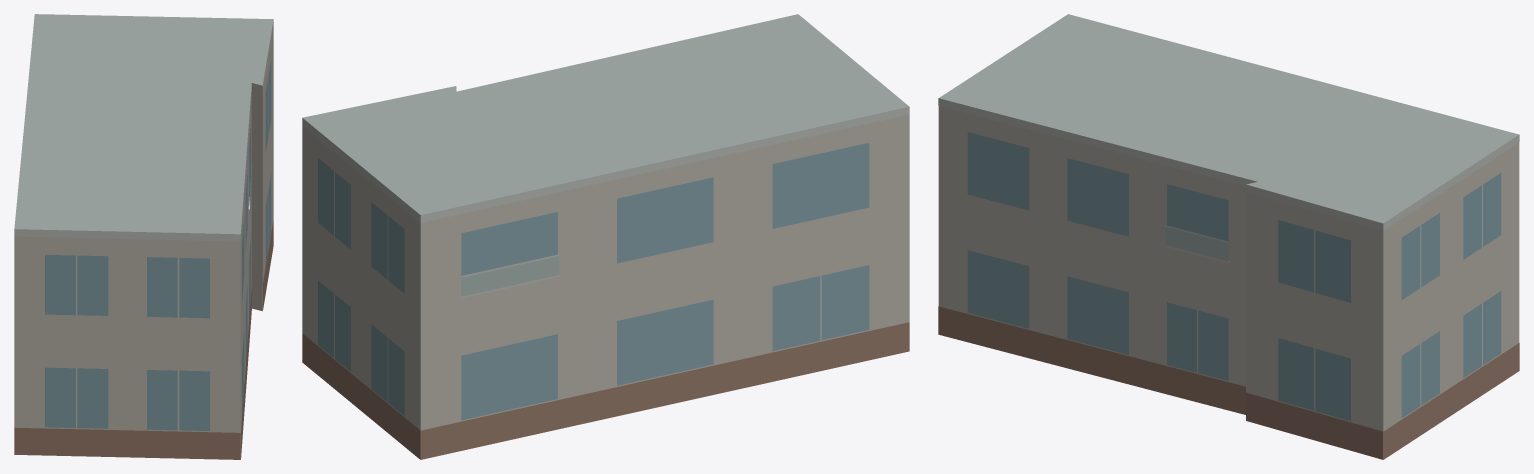
The model's file is survey-upis-32542534.glb.
The picture shows the model from 3 angles, left to right: view 1: azimuth 30°, elevation 25°; view 2: azimuth 150°, elevation 25°; view 3: azimuth 270°, elevation 25°; orthographic projection. The views are drawn at different scales.
Parts seen in each view (by area): view 1: survey-upis-32542534.tmp; view 2: survey-upis-32542534.tmp; view 3: survey-upis-32542534.tmp.
Part boxes in pixels (left/top/right/bottom): survey-upis-32542534.tmp: left=14, top=14, right=273, bottom=459; survey-upis-32542534.tmp: left=302, top=14, right=909, bottom=459; survey-upis-32542534.tmp: left=938, top=14, right=1519, bottom=459.
Bounding box in the file's own units: 14.45 × 7.6 × 16.93.
